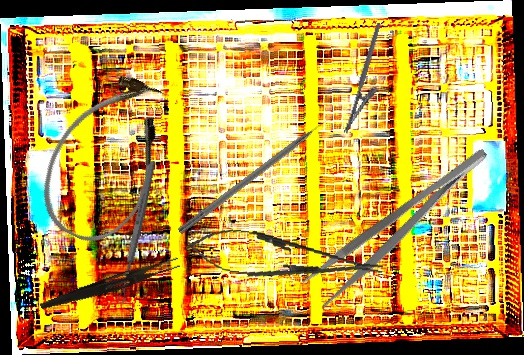Cannula: (22, 60, 192, 257)
Dressing Forceps: (299, 143, 503, 311), (39, 252, 181, 317)
Hook Surgical: (176, 110, 340, 236)
Needle Holder: (183, 222, 386, 294), (342, 22, 397, 139)
Surgical Spoon: (115, 159, 158, 305)
